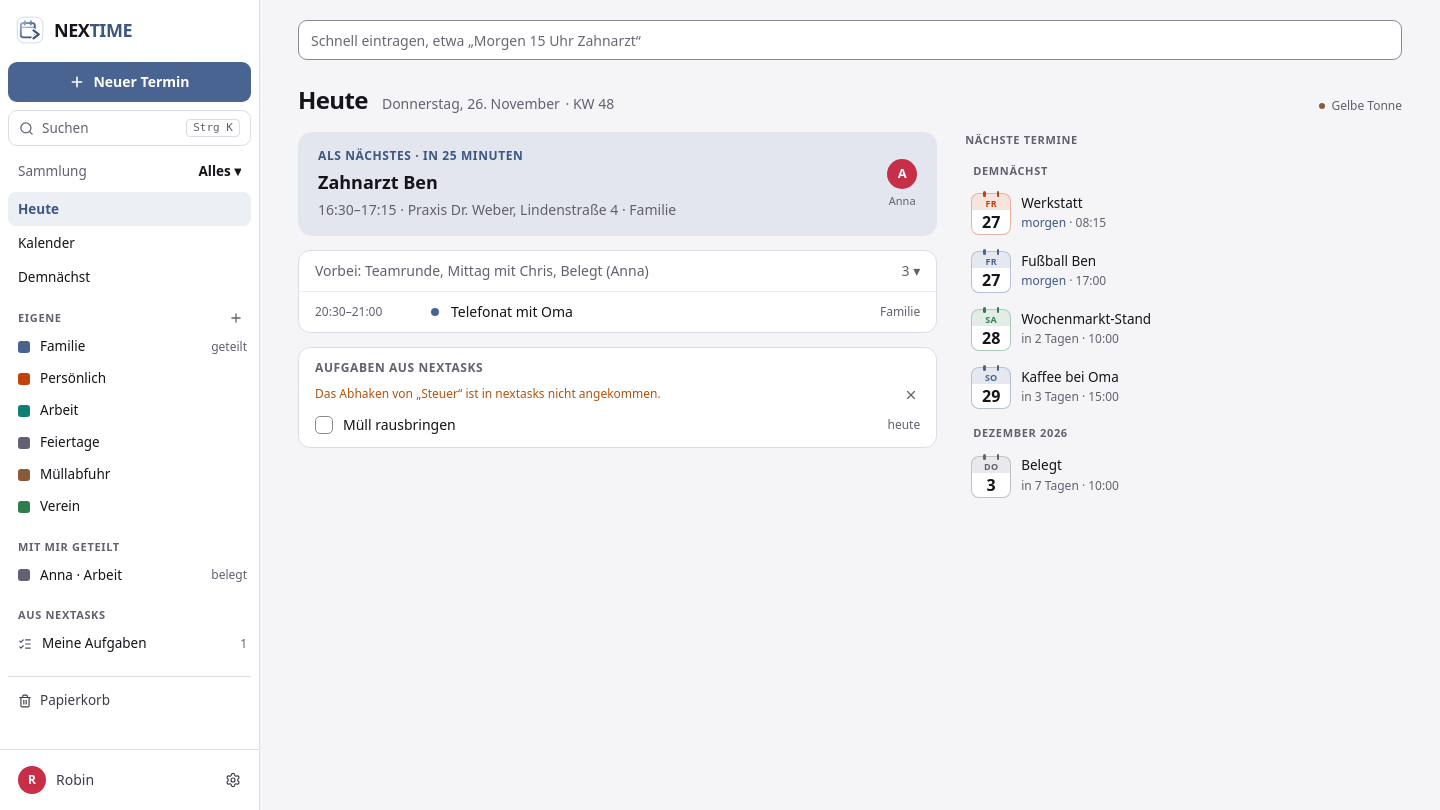
Test: TIME-25 tasks in Today › TIME-25 EC-3 nextasks away: the tick counts at once and carries "wartet"; a refusal for good says so once
Later steps or results of the test are not shown.
Click the checkbox with test id "task-tick" at (324, 424), box x1=315 y1=416 x2=333 y2=434
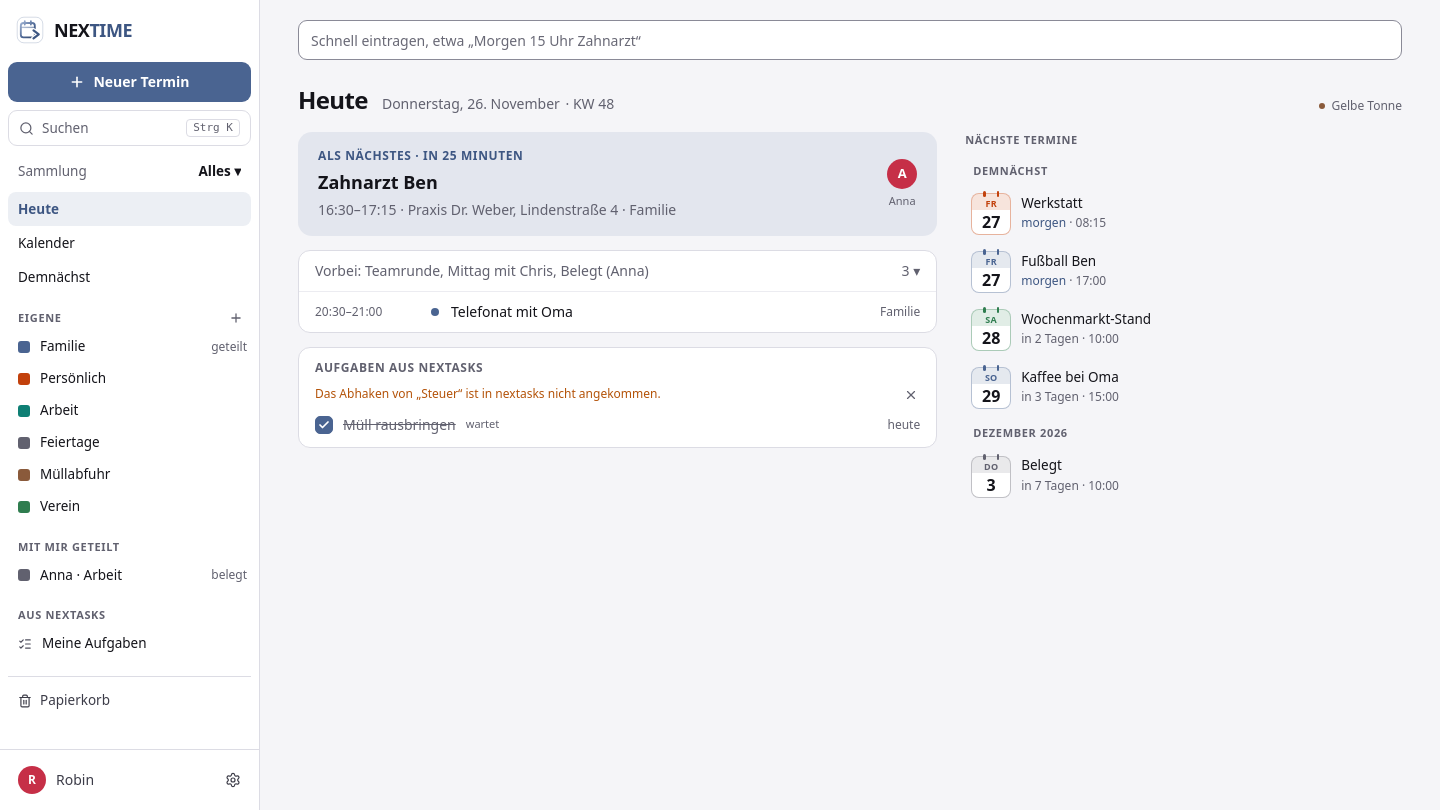
Expected: the message "Das Abhaken von „Steuer“ ist in nextasks nicht angekommen." is shown, x1=315 y1=386 x2=920 y2=404
Expected: the text "wartet" is shown, x1=466 y1=416 x2=499 y2=433
